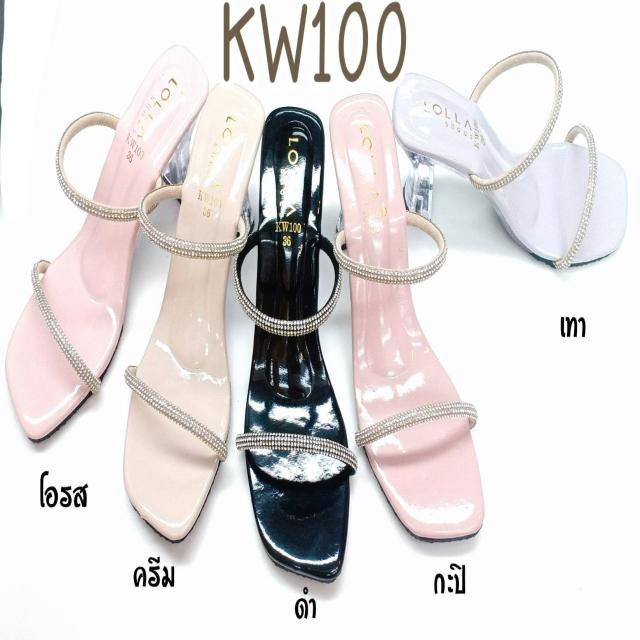black: (249, 102, 347, 565)
cream: (126, 81, 265, 544)
grey: (394, 71, 626, 268)
kapi: (332, 93, 482, 542)
orot: (11, 44, 207, 440)
